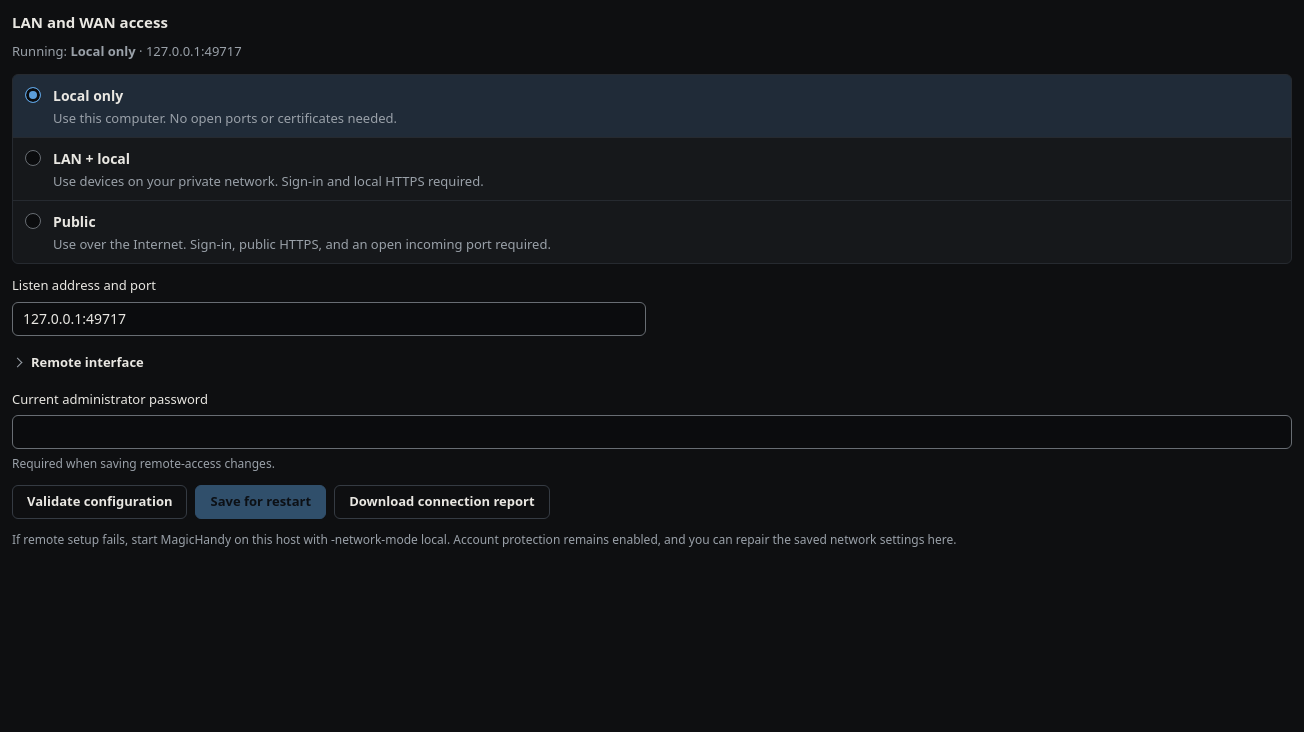
network access settings › downloads a support report in one click and encourages sharing it
This screenshot has width=1304, height=732.
Click the button "Download connection report": (442, 502) [334, 485, 550, 519]
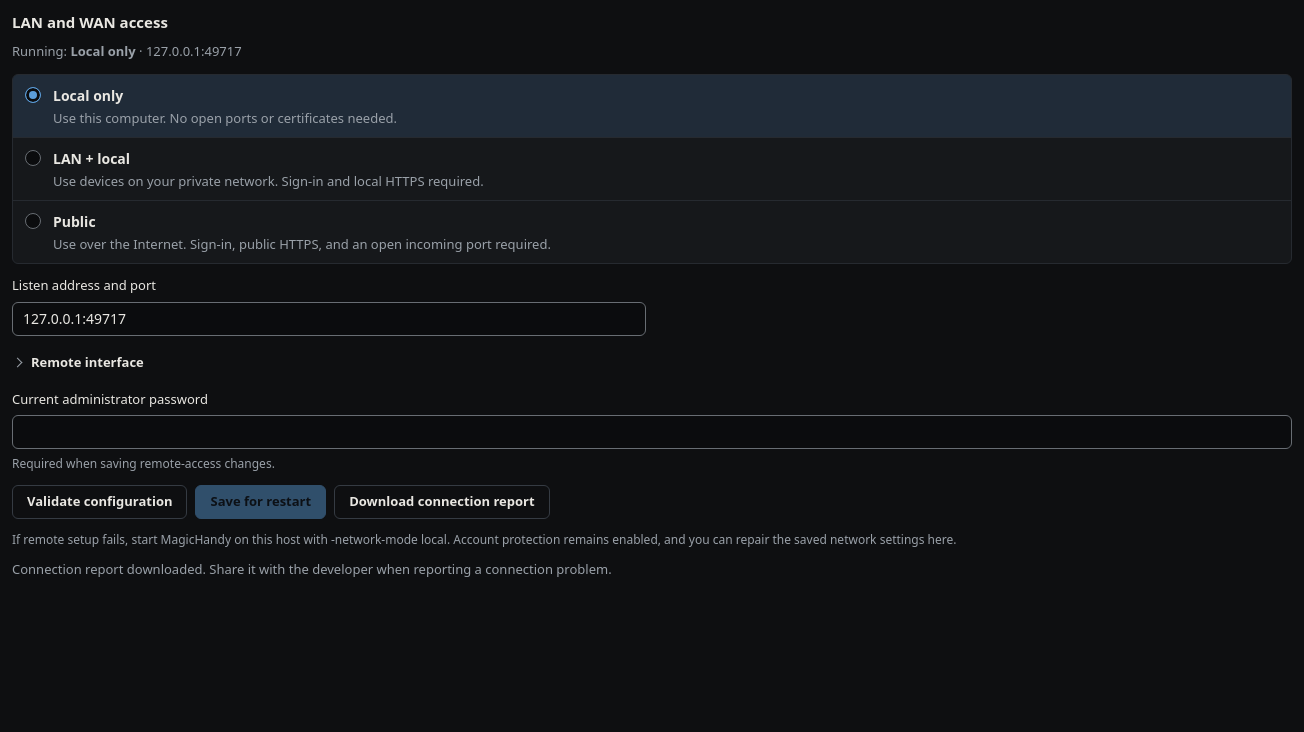
Expected: the text "Connection report downloaded" is shown, [12, 560, 612, 578]
